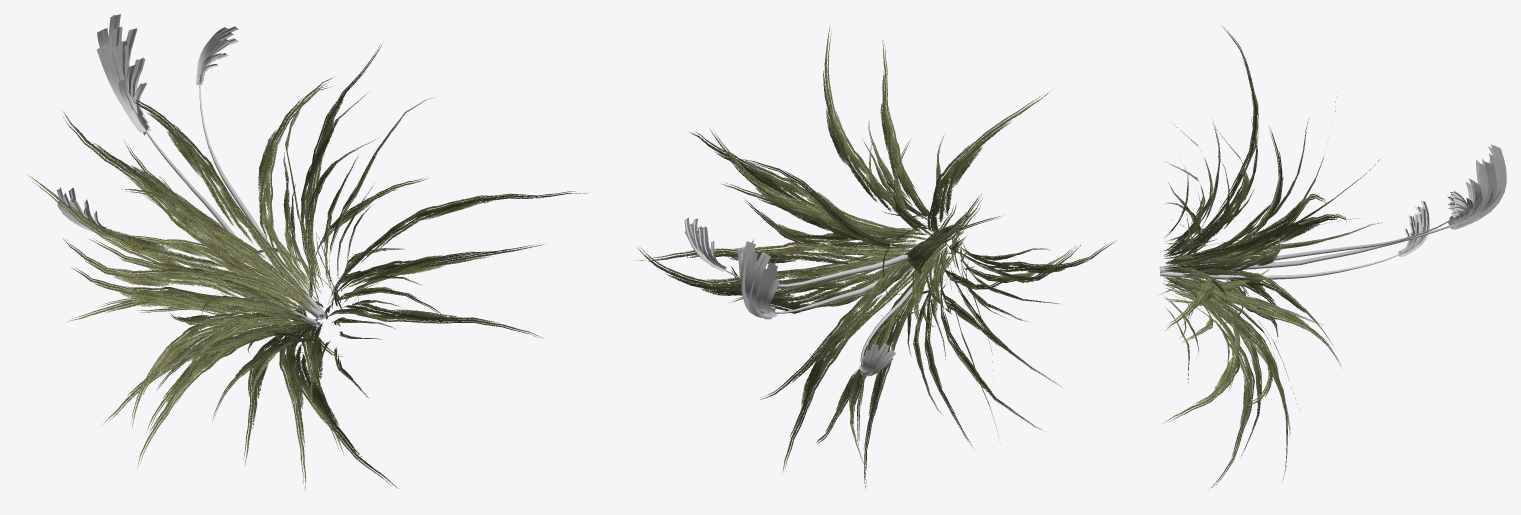
The model's file is plant3.FBX.
The picture shows the model from 3 angles, left to right: view 1: azimuth 30°, elevation 25°; view 2: azimuth 150°, elevation 25°; view 3: azimuth 270°, elevation 25°; orthographic projection. The views are drawn at different scales.
Visible parts, largest first — view 1: plant3_LOD0; view 2: plant3_LOD0; view 3: plant3_LOD0.
Boxes of the visible parts, <box> form: plant3_LOD0: <box>25,14,588,492</box>; plant3_LOD0: <box>634,27,1116,488</box>; plant3_LOD0: <box>1158,25,1506,490</box>.
Size of the model in its own units: 61.98 by 45.25 by 54.55.
